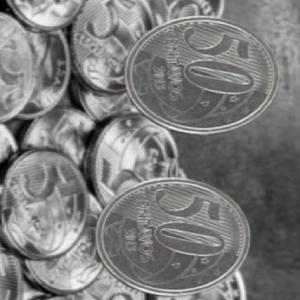5 cent: (0, 148, 88, 263)
50 cent: (100, 175, 257, 291), (125, 15, 279, 131)
